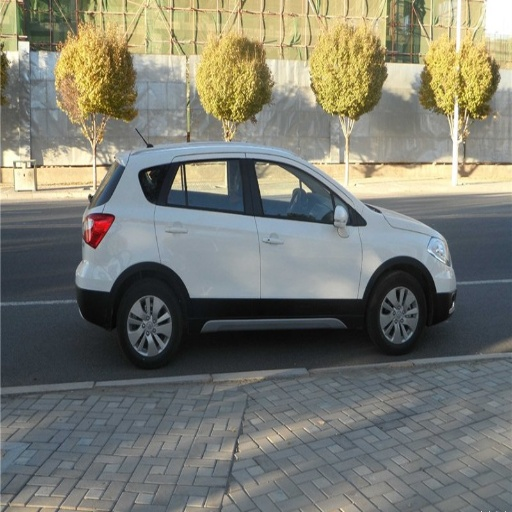back_right_door: (155, 152, 259, 318)
front_right_door: (247, 153, 361, 317)
